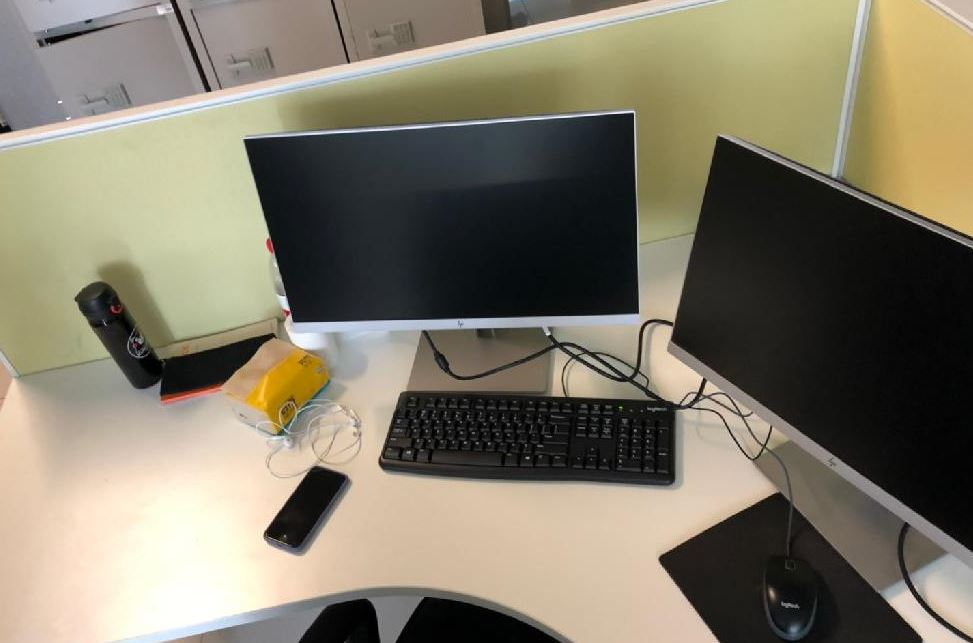mobil: (259, 462, 352, 555)
